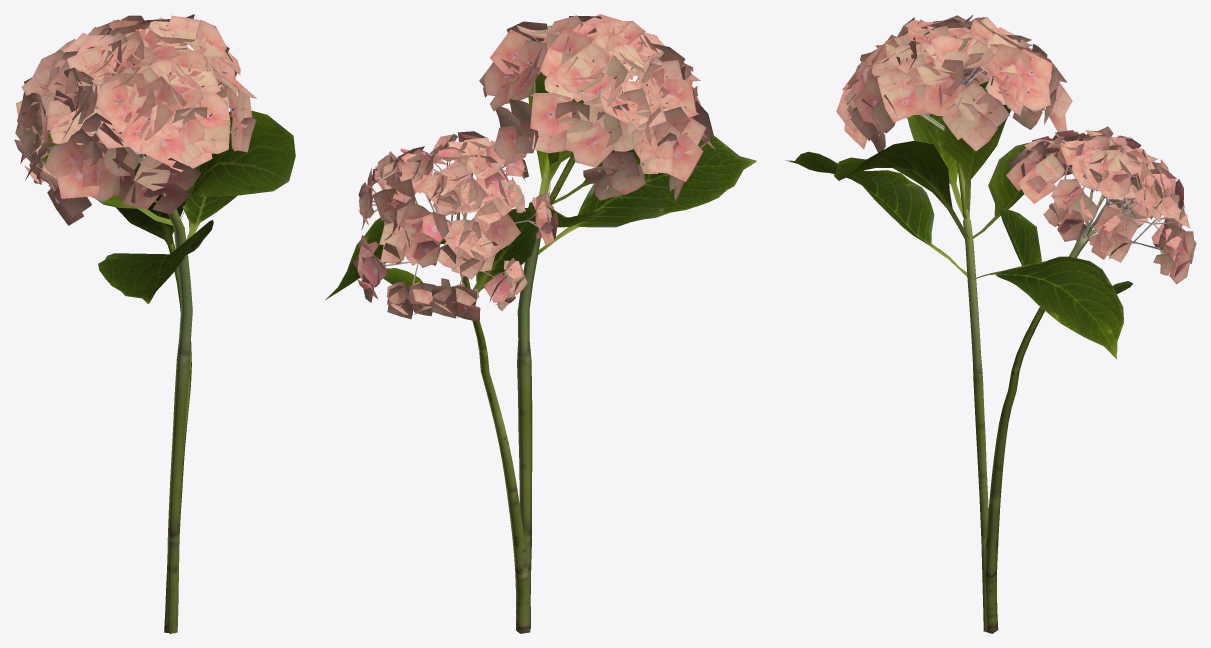
The model's file is Hydrangea_bush_short_peach.glb.
3 renders of one model, left to right at view 1: azimuth 30°, elevation 25°; view 2: azimuth 150°, elevation 25°; view 3: azimuth 270°, elevation 25°, orthographic. The views are drawn at different scales.
Visible parts, largest first — view 1: BUSHEKK; view 2: BUSHEKK; view 3: BUSHEKK.
Part boxes in pixels (bbox=[...]): BUSHEKK: bbox=[14, 14, 295, 633]; BUSHEKK: bbox=[325, 14, 756, 633]; BUSHEKK: bbox=[786, 15, 1196, 633].
Bounding box in the file's own units: 1.48 × 2.94 × 1.87.
Materials: 1 (1 with a texture image).
